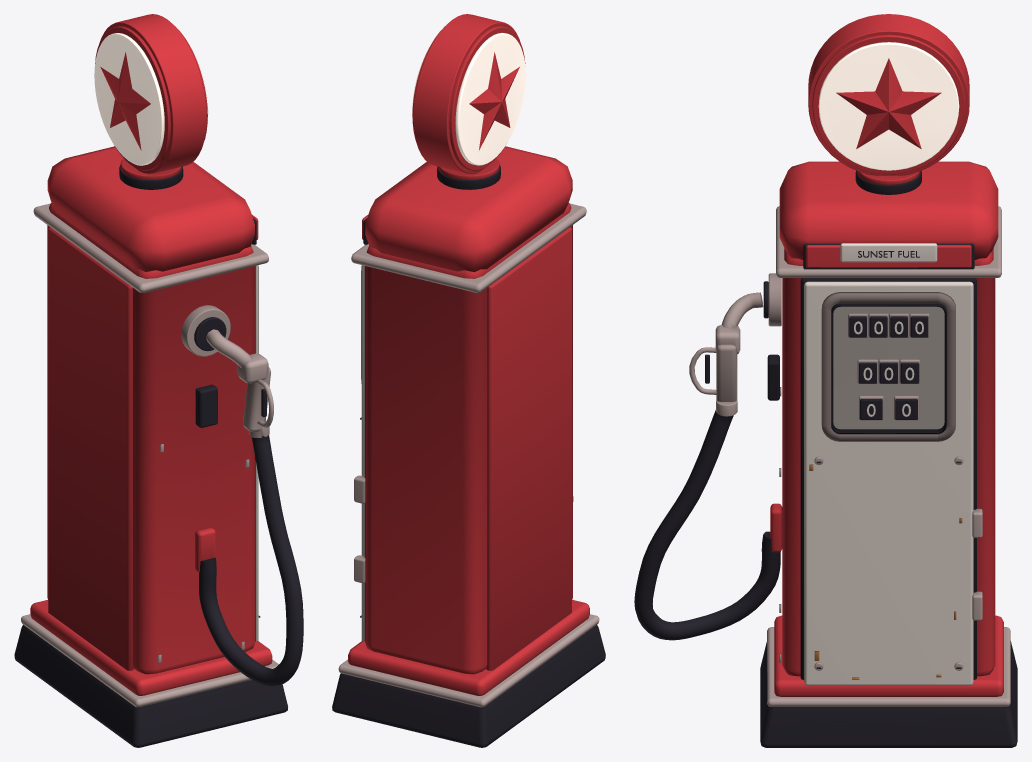
File: prop.gas-pump.glb
3 views of the same model, side by side, from view 1: azimuth 30°, elevation 25°; view 2: azimuth 150°, elevation 25°; view 3: azimuth 270°, elevation 25° (orthographic). The views are drawn at different scales.
Bounding box in the file's own units: 0.679 × 2.75 × 1.38.
